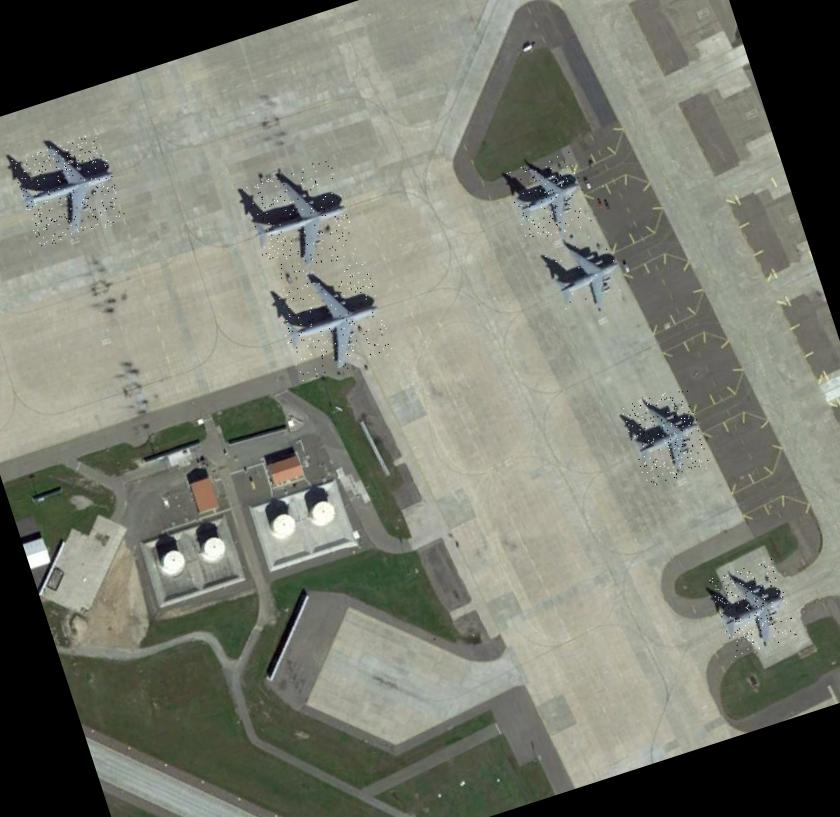A3: (620, 385, 712, 487), (540, 225, 632, 321), (708, 558, 798, 656), (504, 150, 593, 244)
A4: (270, 259, 394, 383), (240, 157, 360, 281), (10, 130, 127, 248)
